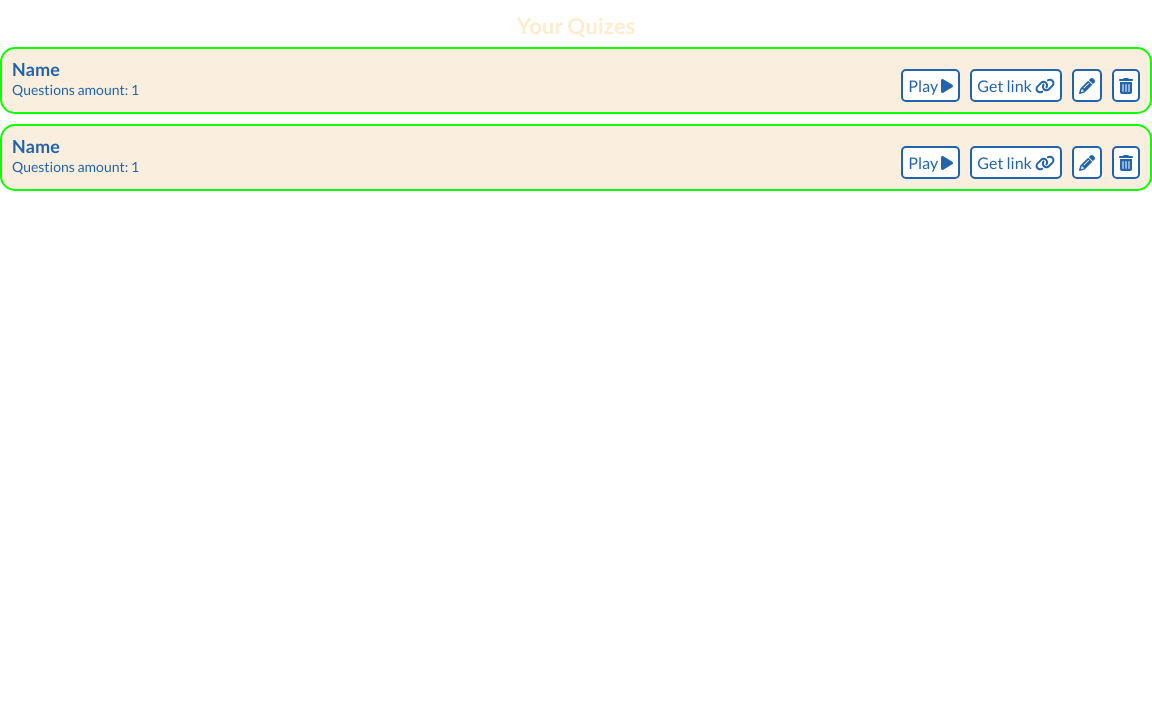
Scenario: edit modal tests › should show delete question btn
Click the 1st button with test id "edit-btn" at (1087, 86), box [1072,69,1102,102]
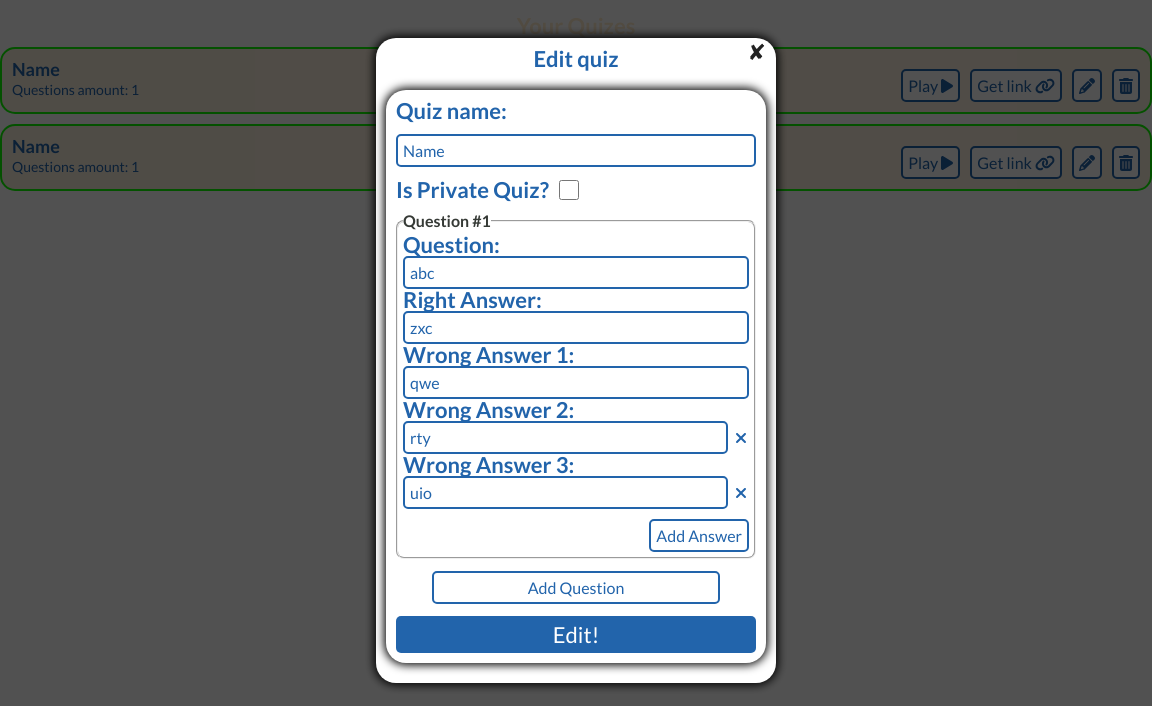
Click the button with test id "add-question-btn" at (576, 587), box [432,570,720,604]
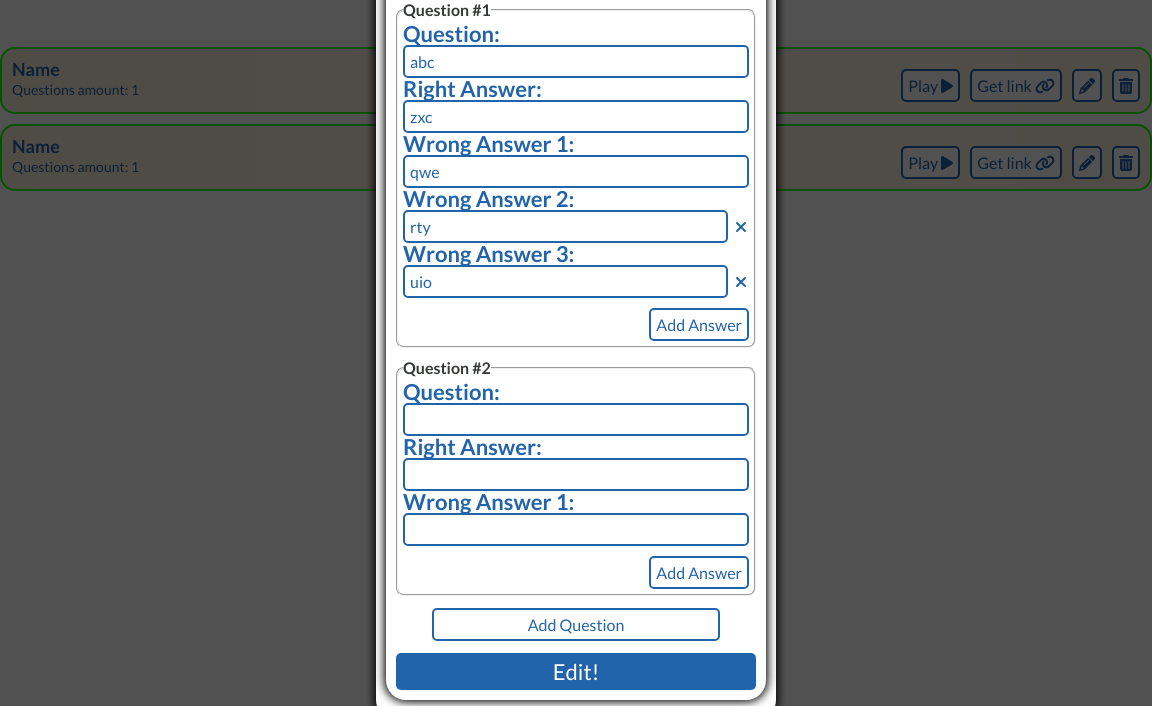
Click the button with test id "add-question-btn" at (576, 624), box [432,608,720,640]
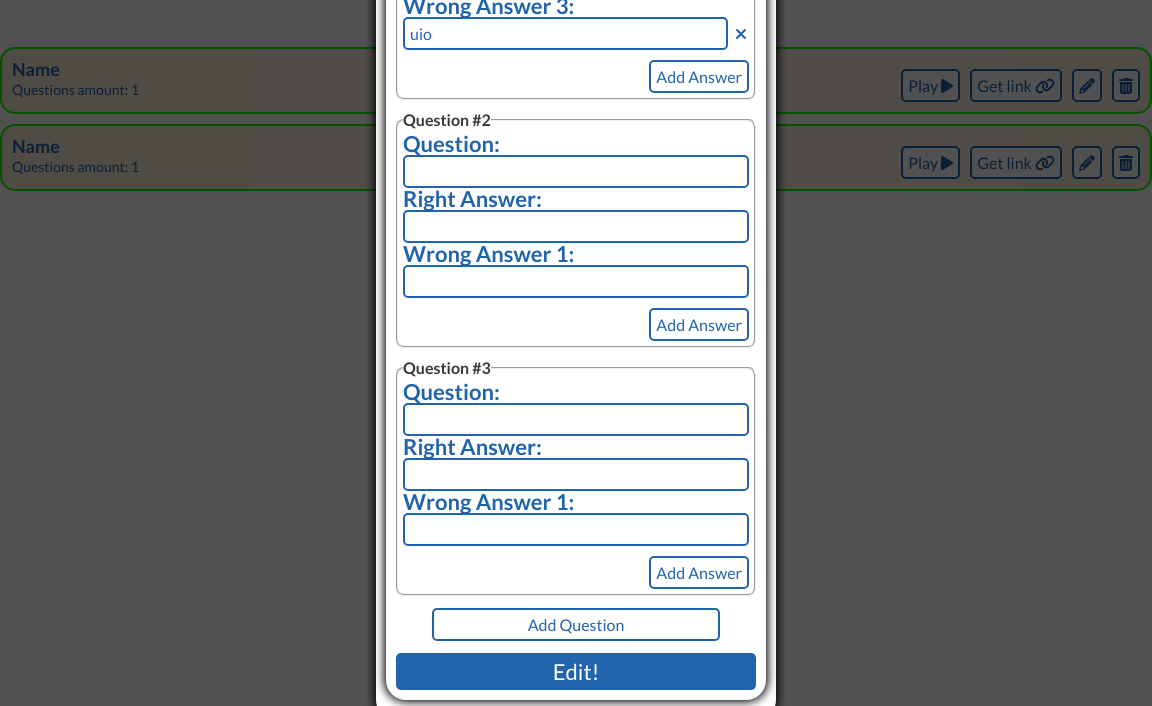
Click the button with test id "add-question-btn" at (576, 624), box [432,608,720,640]
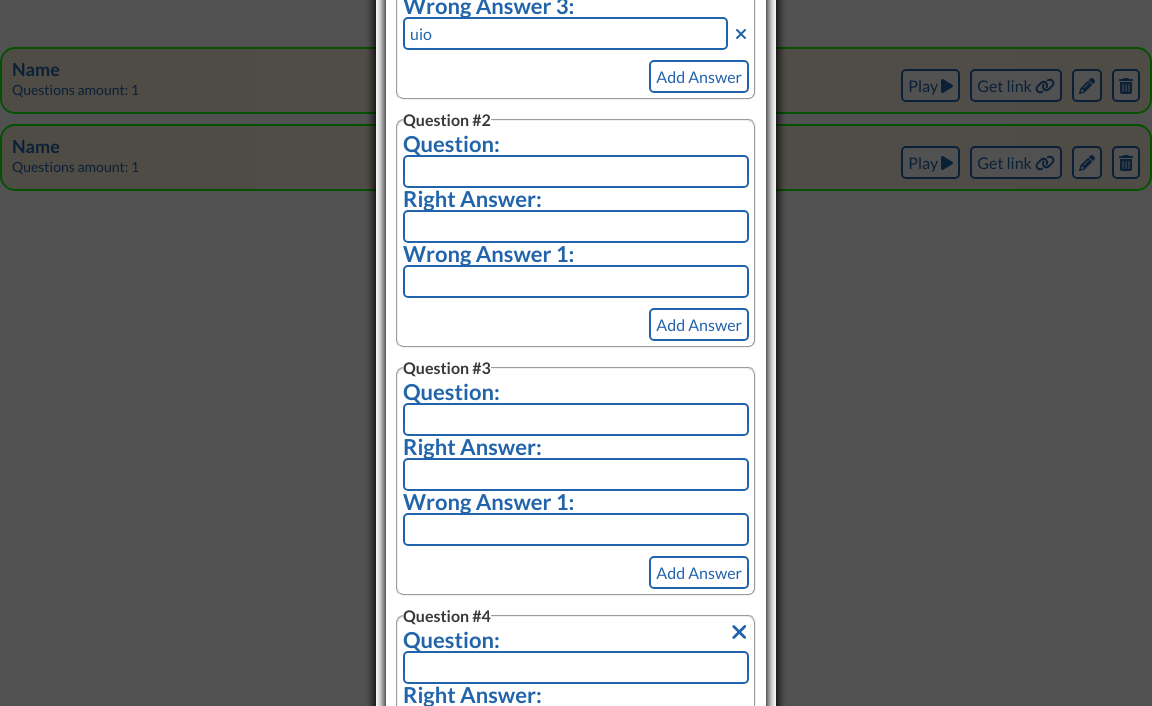
Expected: the button with test id "question-del-btn" is shown
Click the button with test id "question-del-btn" at (739, 632), box [728,616,749,648]
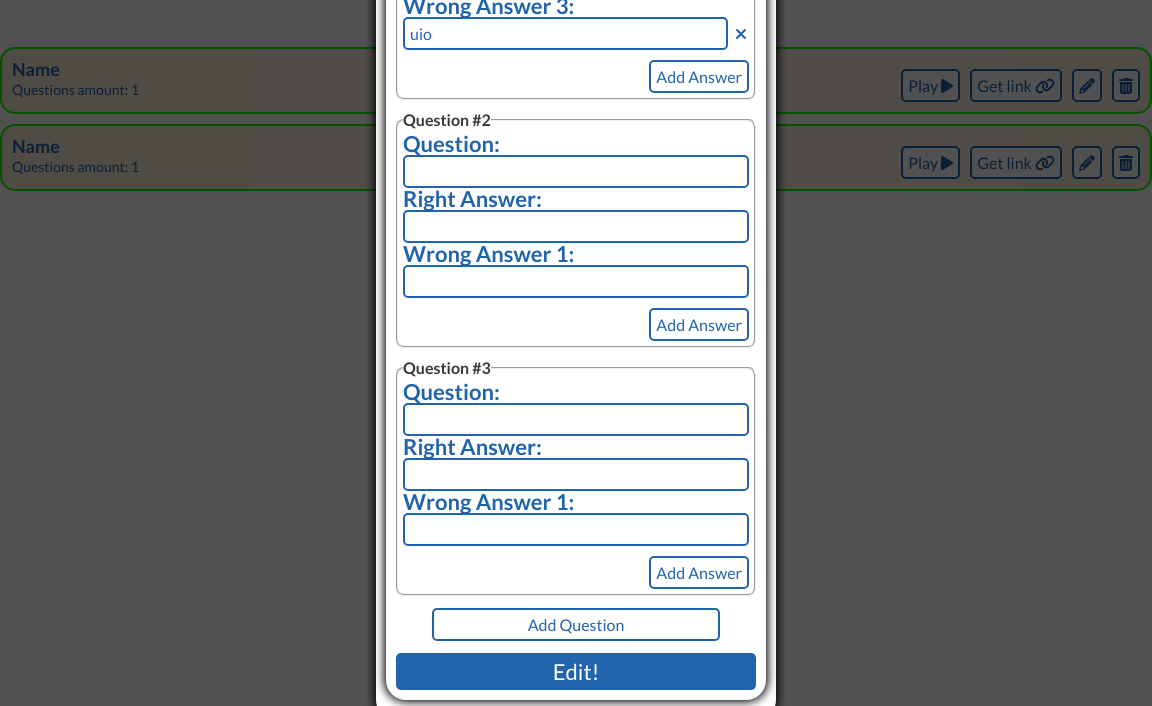
Expected: the button with test id "question-del-btn" is gone
